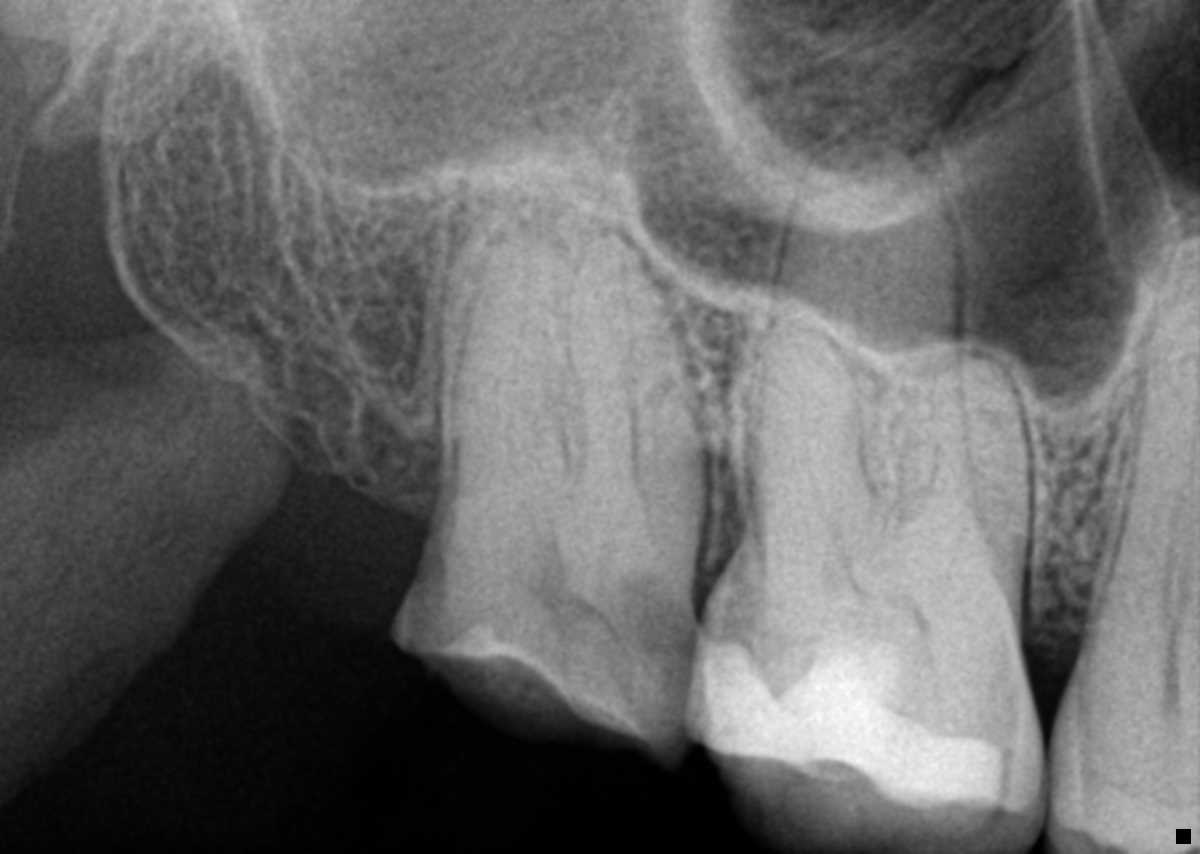Distal Root: (747, 328, 886, 574), (448, 230, 570, 506)
Main Canal: (1163, 432, 1194, 604)
Main Root: (1092, 244, 1200, 609)
Mesial Root: (572, 238, 708, 538), (905, 352, 1036, 605)
Palatal Root: (755, 133, 985, 609), (439, 121, 642, 510)
decay: (593, 580, 700, 735), (707, 552, 813, 698)
